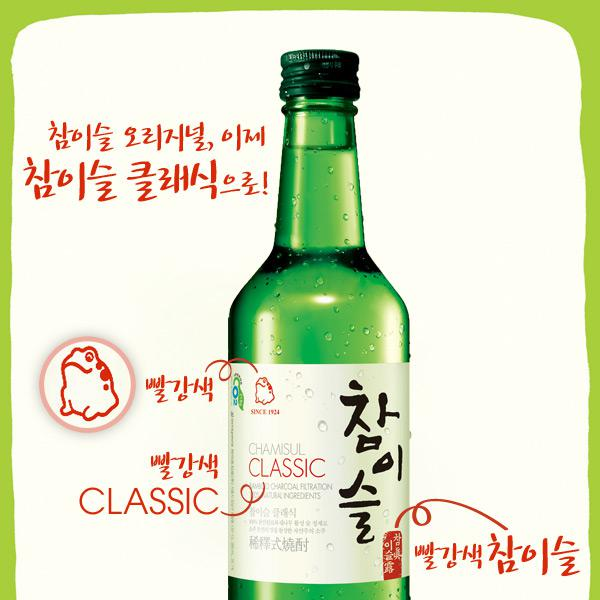soju: (221, 44, 413, 600)
